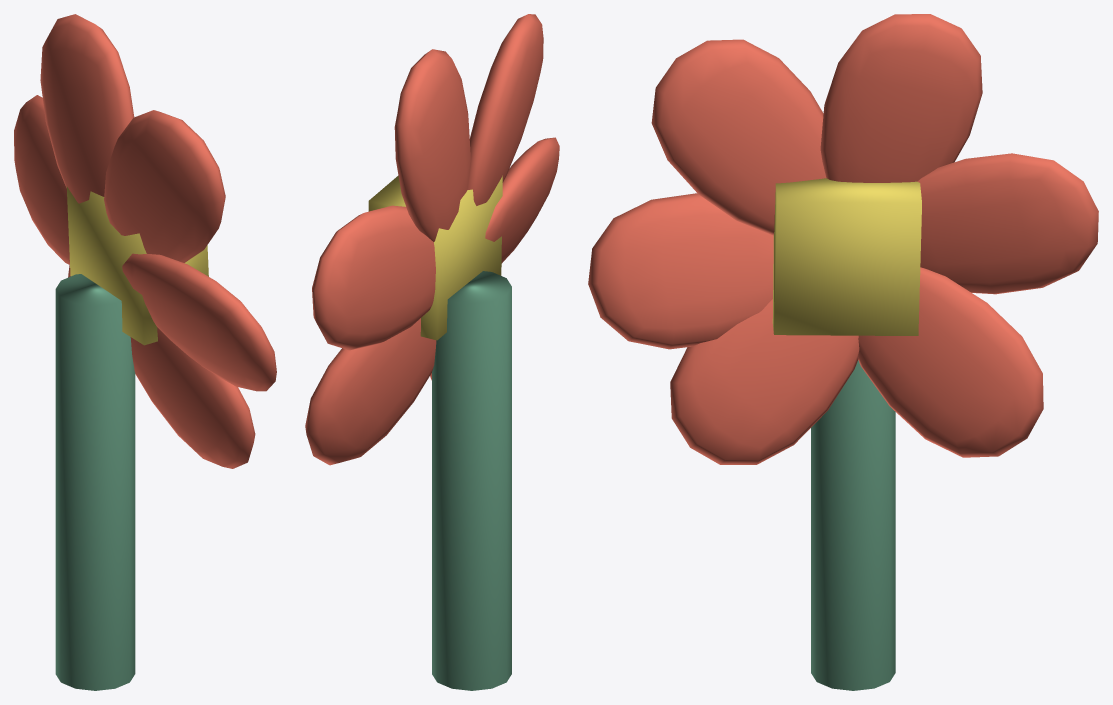
File: flower-red.gltf
3 renders of one model, left to right at view 1: azimuth 30°, elevation 25°; view 2: azimuth 150°, elevation 25°; view 3: azimuth 270°, elevation 25°, orthographic. The views are drawn at different scales.
Visible parts, largest first — view 1: fleur-rouge-pétales, fleur-rouge.tige, fleur-rouge.centre; view 2: fleur-rouge-pétales, fleur-rouge.tige, fleur-rouge.centre; view 3: fleur-rouge-pétales, fleur-rouge.tige, fleur-rouge.centre.
Boxes of the visible parts, x1,y1,x2,y2 form: fleur-rouge-pétales: [14, 14, 276, 468]; fleur-rouge.tige: [55, 274, 135, 690]; fleur-rouge.centre: [66, 186, 208, 345]; fleur-rouge-pétales: [305, 14, 559, 465]; fleur-rouge.tige: [432, 271, 511, 690]; fleur-rouge.centre: [368, 175, 502, 340]; fleur-rouge-pétales: [588, 14, 1098, 464]; fleur-rouge.tige: [811, 360, 895, 690]; fleur-rouge.centre: [772, 178, 921, 335].
Bounding box in the file's own units: 0.1497 × 0.7741 × 0.5356.
